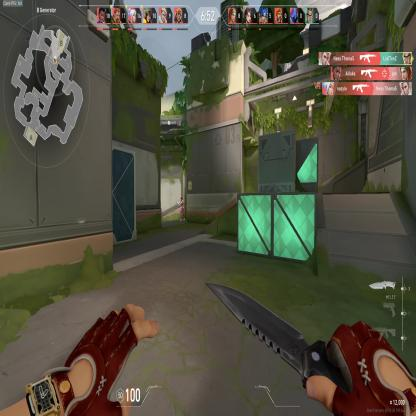enemy: (177, 196, 185, 221)
